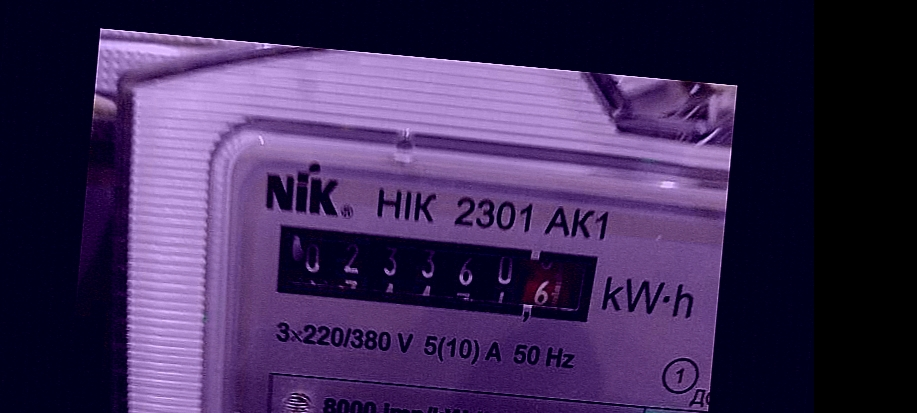0: (299, 236, 324, 273), (492, 249, 517, 286)
2: (339, 238, 363, 274)
3: (378, 241, 401, 278), (417, 244, 438, 279)
6: (454, 250, 477, 286), (530, 272, 551, 306)
screen: (259, 210, 617, 340)
